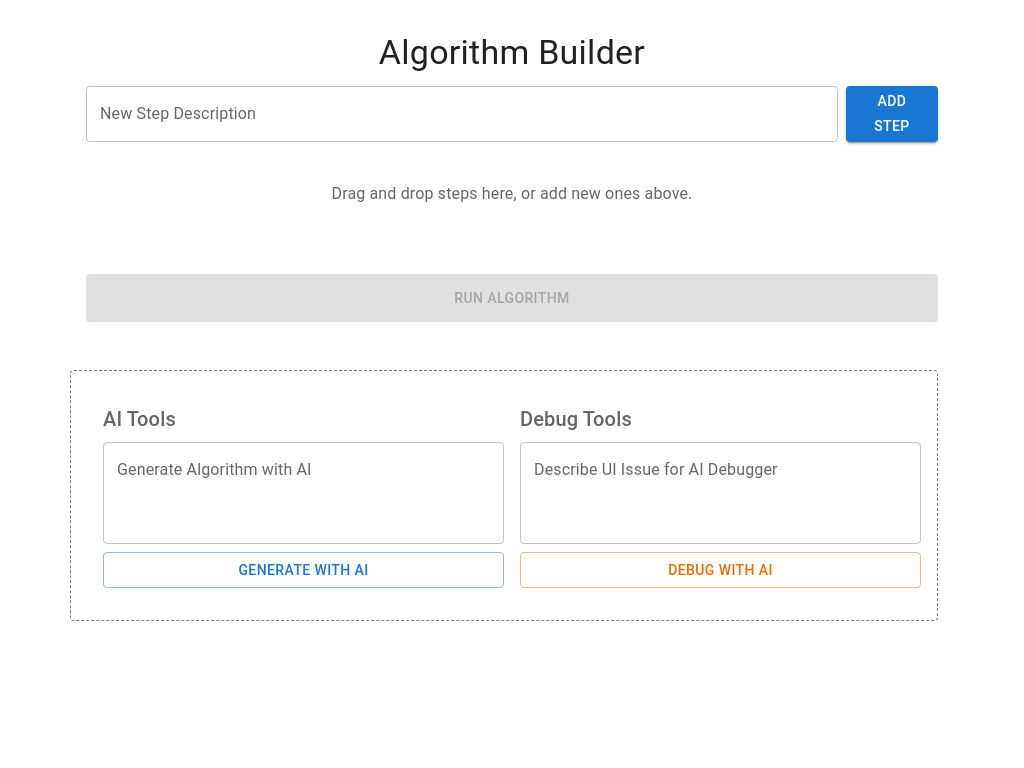
AlgorithmBuilderPage - Core Logic › deleteStep functionality: removes a step
The image size is (1024, 768).
In the field labelled "New Step Description": (462, 114) [86,86,838,142], type "Step to keep"
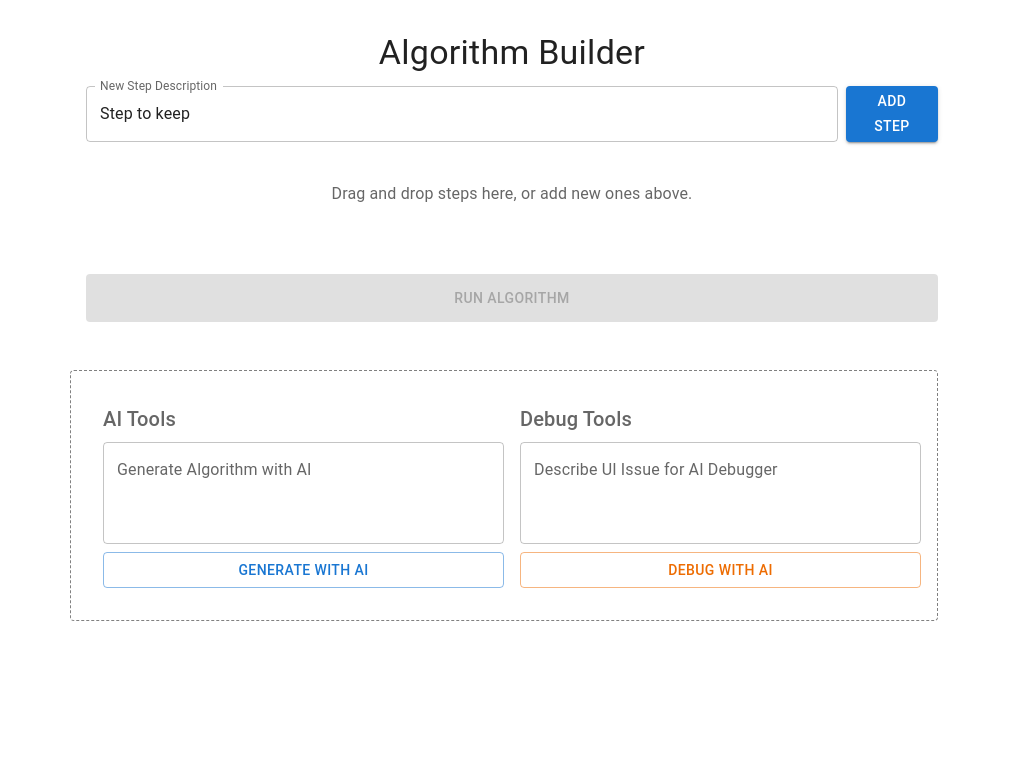
Click the button "Add Step": (892, 114) [846,86,938,142]
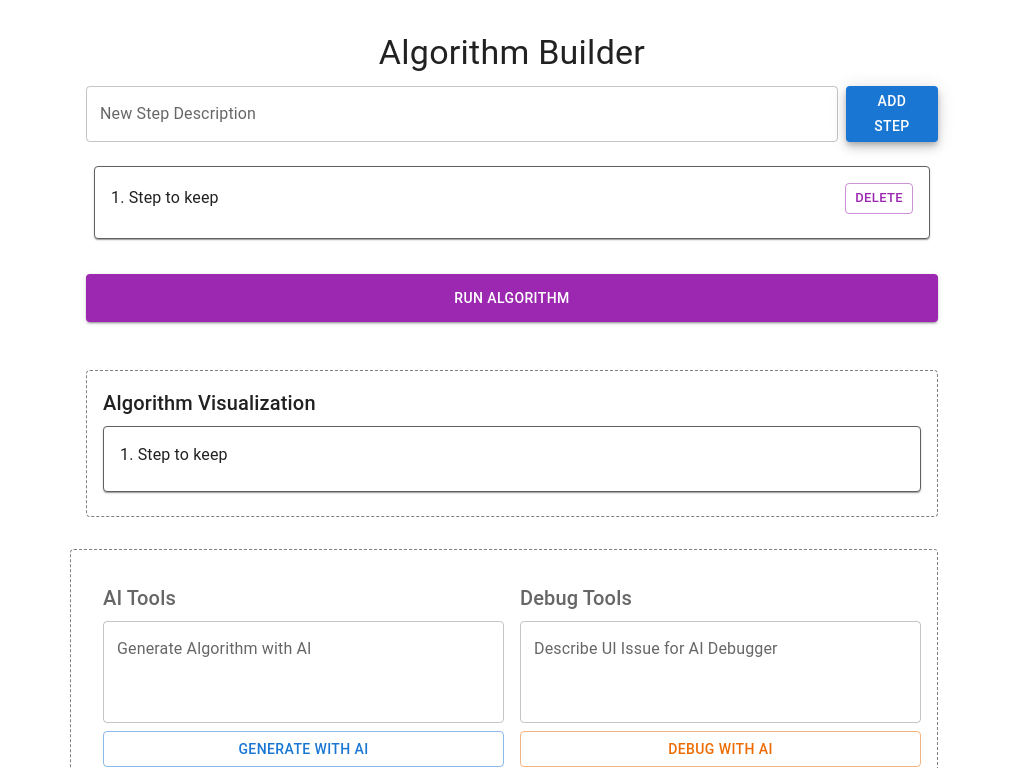
In the field labelled "New Step Description": (462, 114) [86,86,838,142], type "Step to delete"
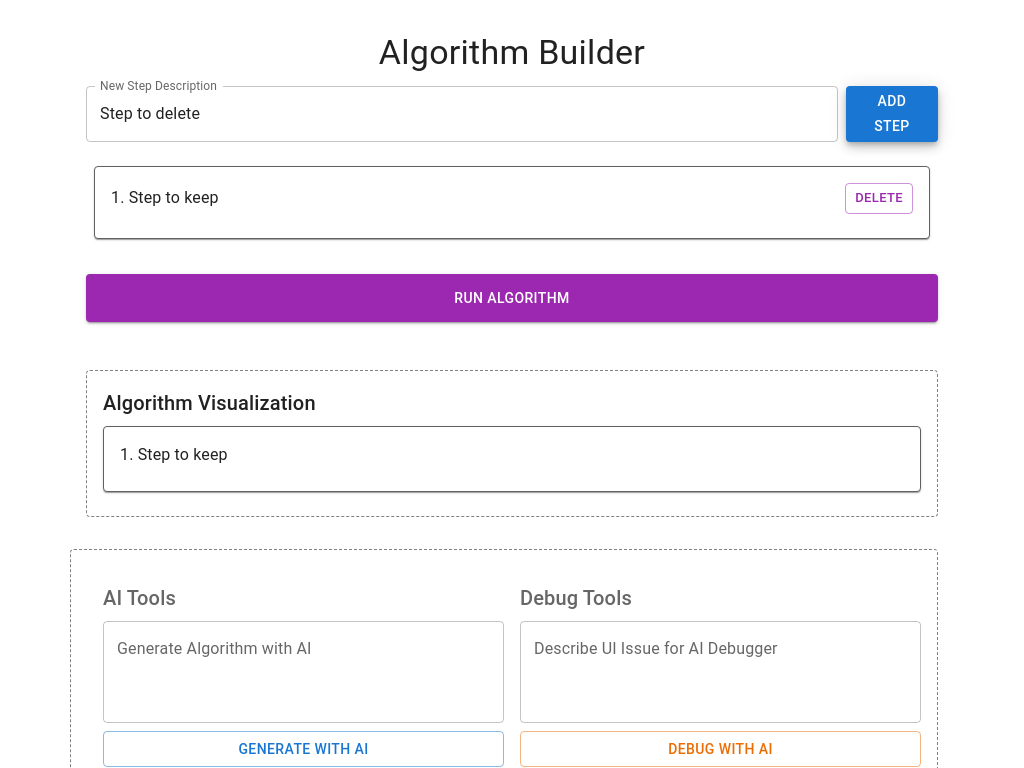
Click the button "Add Step": (892, 114) [846,86,938,142]
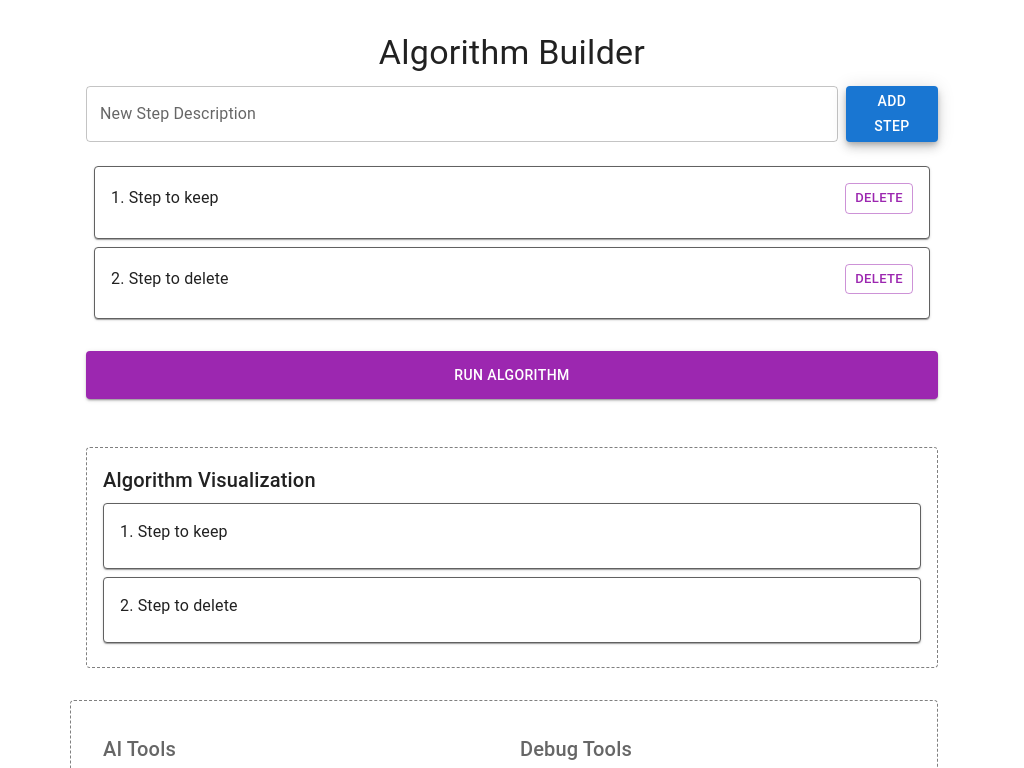
Expected: the 1st text "1. Step to keep" is shown, [111,186,219,210]
Expected: the 1st text "2. Step to delete" is shown, [111,267,229,291]
Click the 2nd button "Delete": (879, 279) [845,264,913,294]
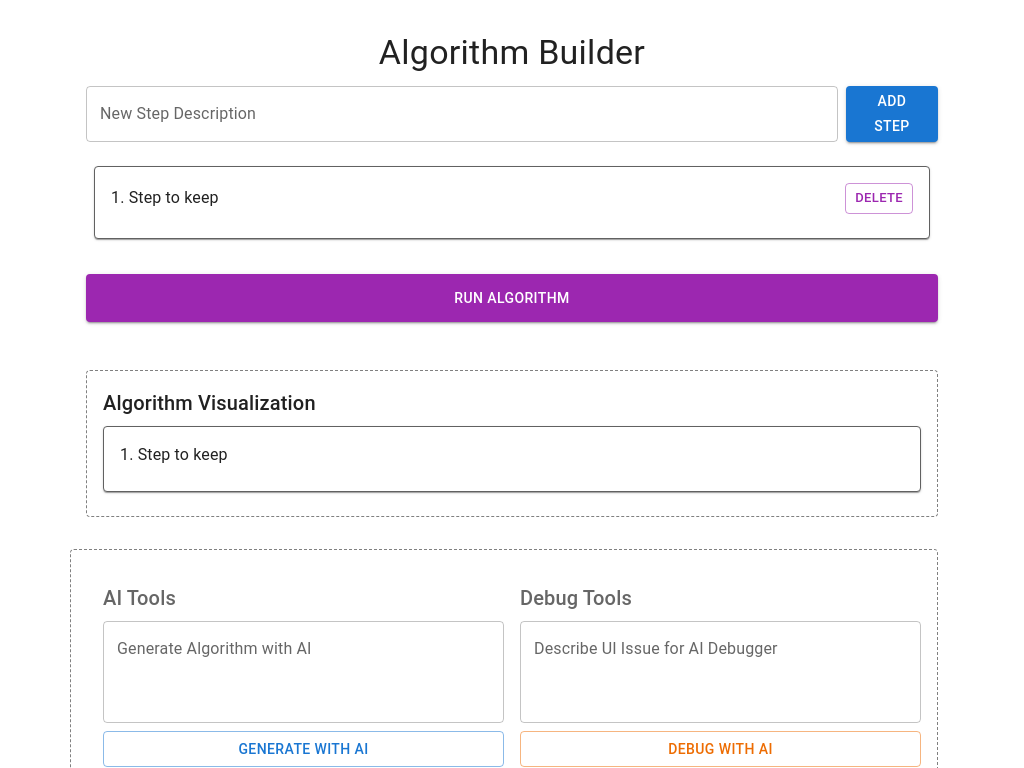
Expected: the 1st text "1. Step to keep" is shown, [111,186,219,210]
Expected: the button "Step to delete" is gone
Expected: the button "2. Step to delete" is gone
